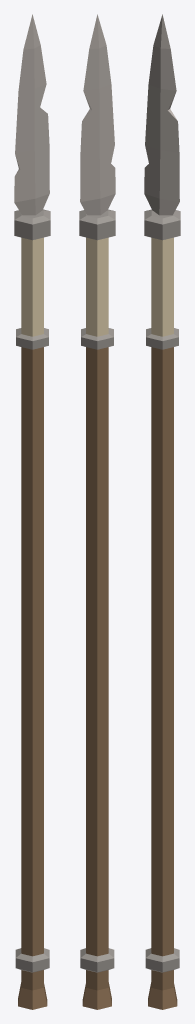
Rendered from SM_pwe_china_spear_02.fbx.
3 renders of one model, left to right at view 1: azimuth 30°, elevation 25°; view 2: azimuth 210°, elevation 25°; view 3: azimuth 330°, elevation 25°, orthographic.
Visible parts, largest first — view 1: SM_pwe_china_spear_02; view 2: SM_pwe_china_spear_02; view 3: SM_pwe_china_spear_02.
Boxes of the visible parts, left/top/right/bottom form: SM_pwe_china_spear_02: left=14, top=14, right=50, bottom=1009; SM_pwe_china_spear_02: left=79, top=14, right=115, bottom=1009; SM_pwe_china_spear_02: left=144, top=14, right=180, bottom=1009.
Size of the model in its own units: 7.19 by 187 by 6.22.
